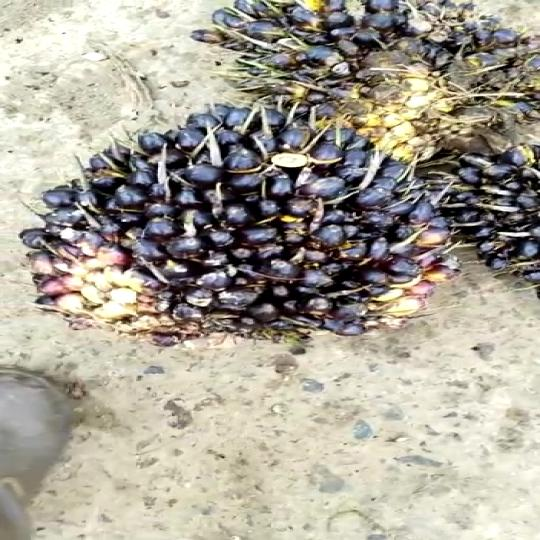mentah: (34, 90, 477, 350), (175, 0, 538, 145)
